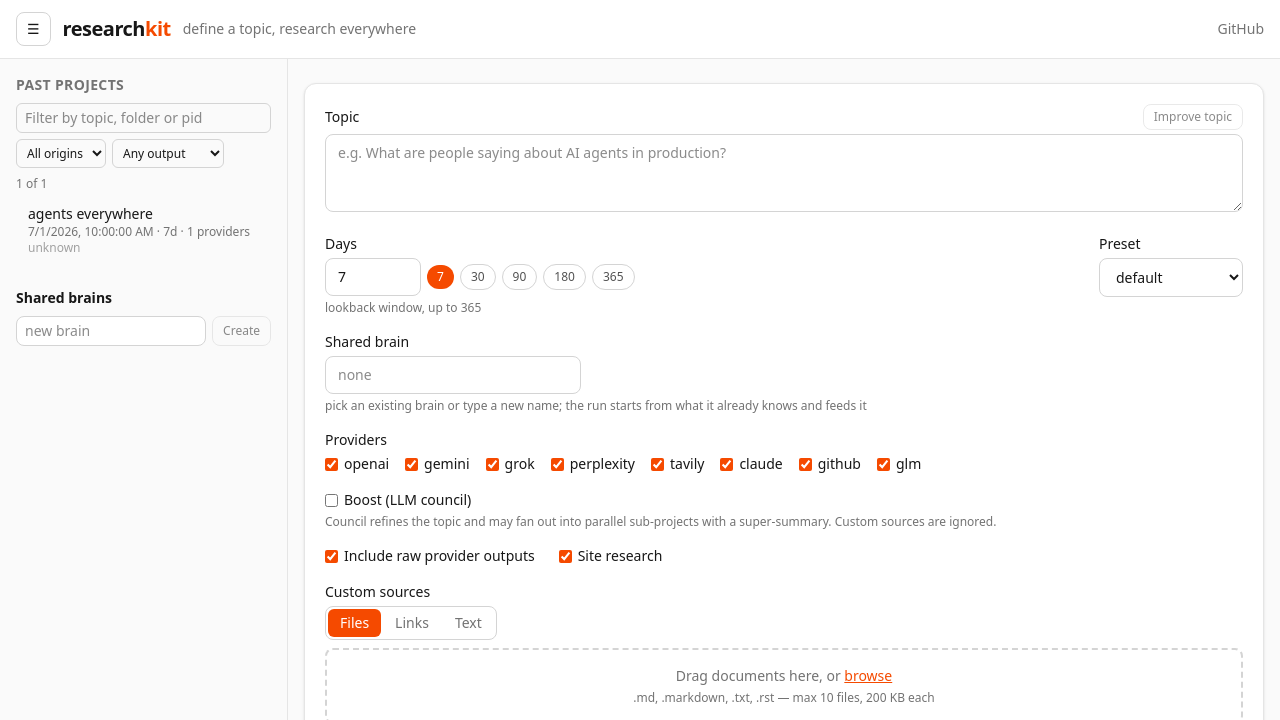
it: App › toggles the projects sidebar and remembers it in localStorage
Check: the text "agents everywhere" is shown, box left=28, top=204, right=153, bottom=223
What coordinates should you click on to do the following:
click the button named "Toggle projects sidebar"
I would click on:
 (33, 29)
Its box is left=16, top=12, right=51, bottom=46.
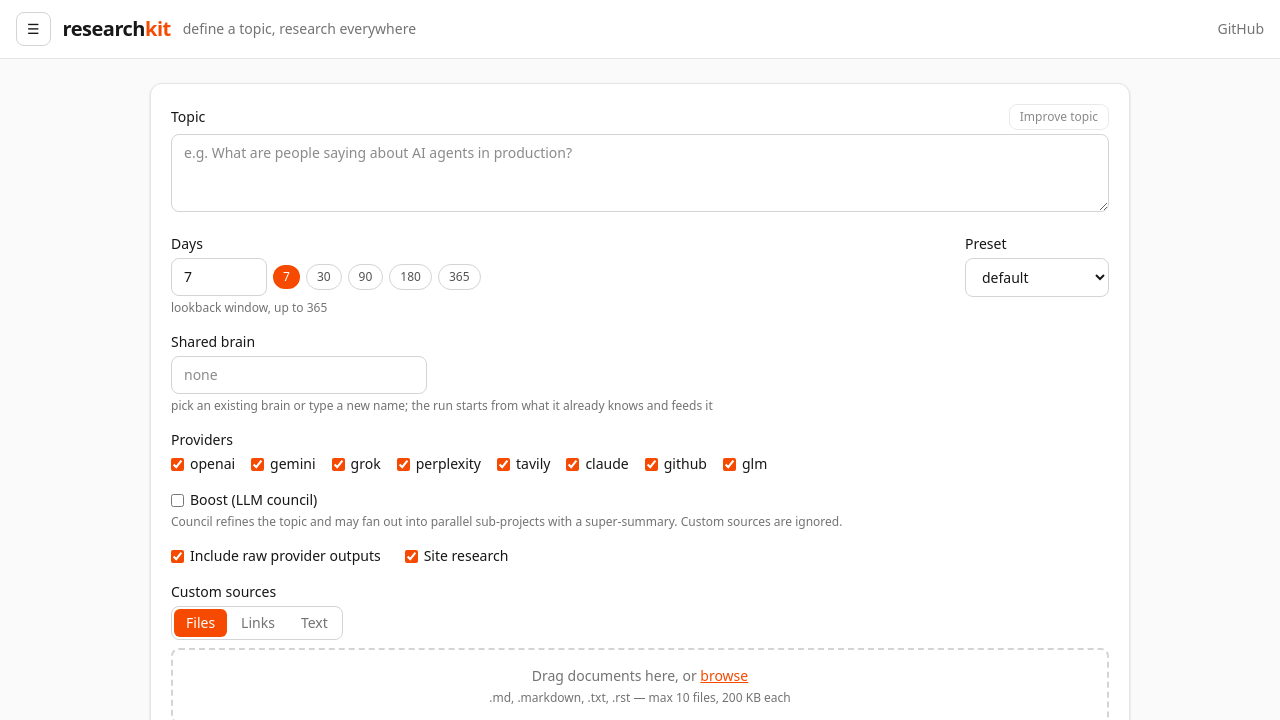
Check: the heading "Past projects" is gone
What coordinates should you click on to do the following:
click the button named "Toggle projects sidebar"
I would click on:
 (33, 29)
Its box is left=16, top=12, right=51, bottom=46.
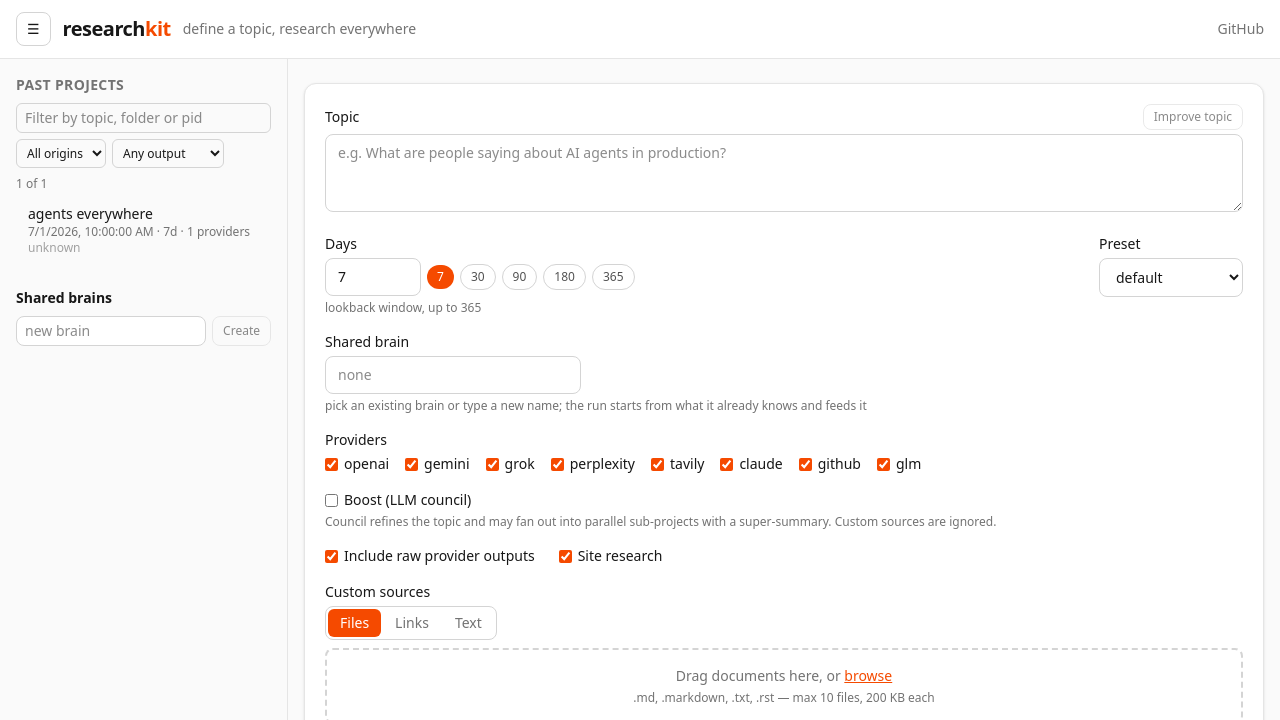
Check: the heading "Past projects" is shown, box left=16, top=75, right=124, bottom=94
